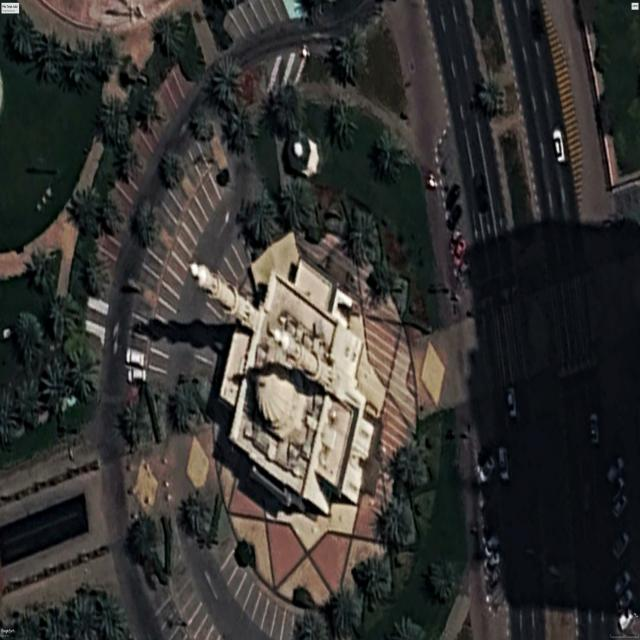mosque: (190, 258, 386, 516)
